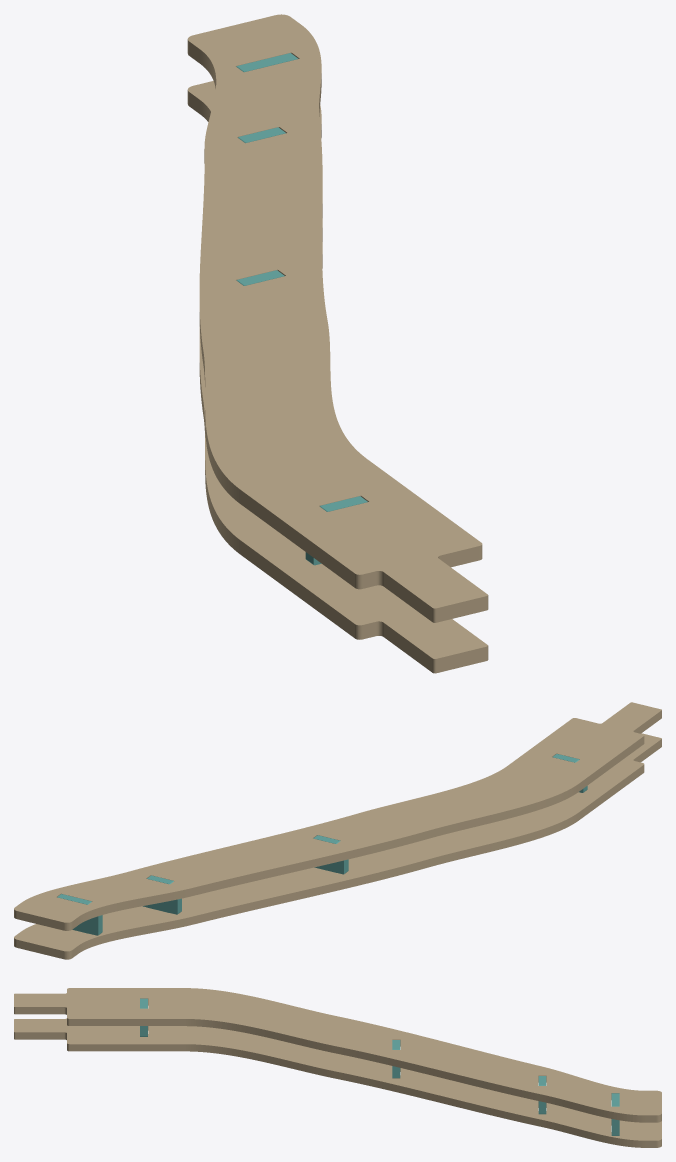
Rendered from one-leg-DESIGN_ONLY.glb.
The picture shows the model from 3 angles, top to bottom: view 1: azimuth 30°, elevation 25°; view 2: azimuth 150°, elevation 25°; view 3: azimuth 270°, elevation 25°; orthographic projection. The views are drawn at different scales.
Visible parts, largest first — view 1: P01_2, P01_1; view 2: P01_2, P01_1, S1, S2, S3; view 3: P01_2, P01_1, S1.
Part boxes in pixels (x1,y1,x2,y2): P01_2: (187, 14, 488, 622); P01_1: (187, 81, 488, 673); P01_2: (14, 702, 661, 930); P01_1: (14, 733, 661, 959); S1: (57, 894, 102, 935); S2: (143, 875, 181, 914); S3: (313, 835, 348, 874); P01_2: (14, 988, 661, 1122); P01_1: (14, 1018, 661, 1147); S1: (611, 1093, 619, 1135).
Bounding box in the file's own units: 0.227 × 0.027 × 0.488.
